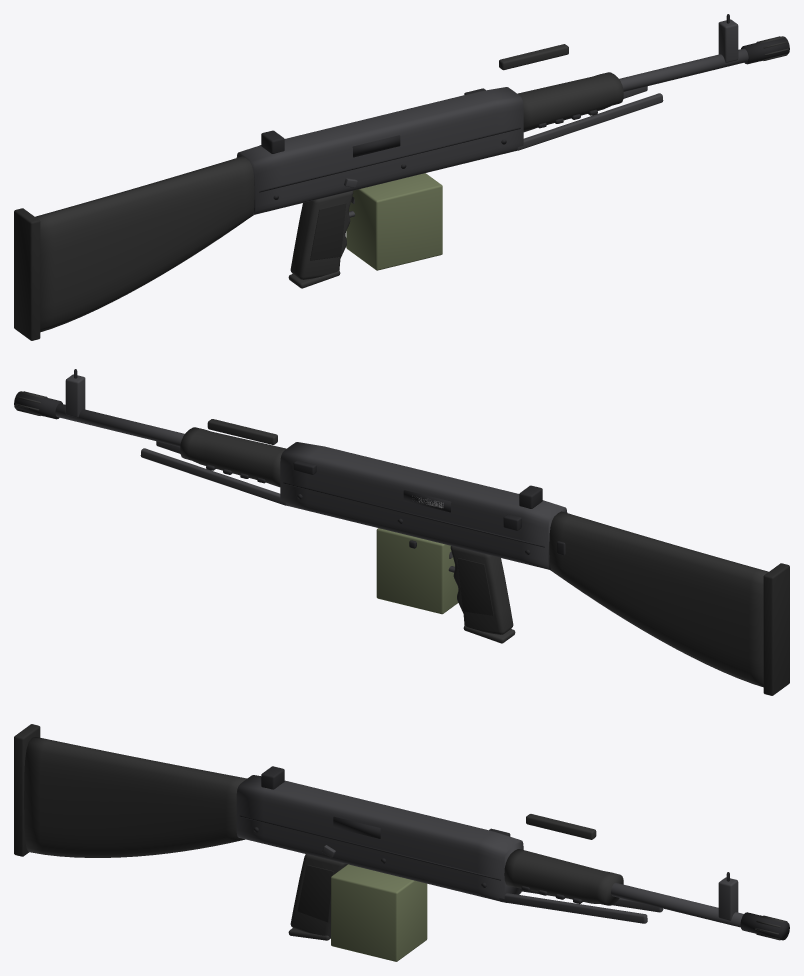
Rendered from SM_Minimi.glb.
3 renders of one model, top to bottom at view 1: azimuth 30°, elevation 25°; view 2: azimuth 150°, elevation 25°; view 3: azimuth 330°, elevation 25°, orthographic.
Parts seen in each view (by area): view 1: SM_Minimi; view 2: SM_Minimi; view 3: SM_Minimi.
Part boxes in pixels (x1,y1,x2,y2): SM_Minimi: (14,14,789,340); SM_Minimi: (14,369,789,695); SM_Minimi: (14,724,789,961).
Bounding box in the file's own units: 1.14 × 0.2353 × 0.101.
